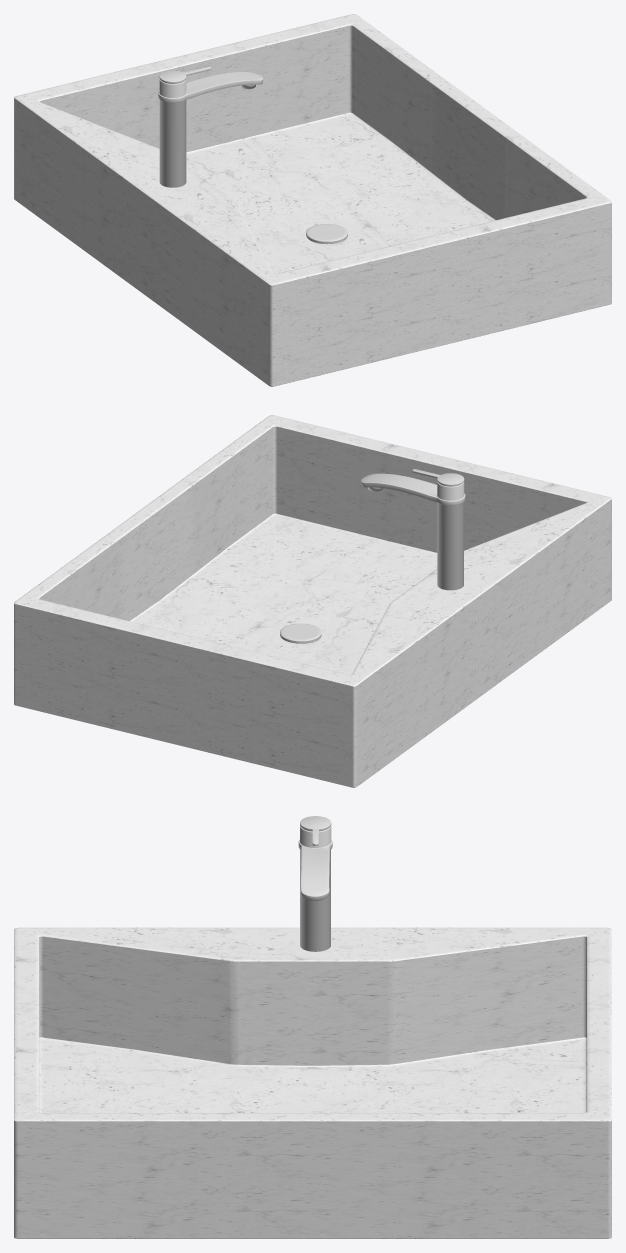
The model's file is Washbasin.glb.
3 renders of one model, top to bottom at view 1: azimuth 30°, elevation 25°; view 2: azimuth 150°, elevation 25°; view 3: azimuth 270°, elevation 25°, orthographic. The views are drawn at different scales.
Parts seen in each view (by area): view 1: Wash Basin.001, Wash Basin Tap.001, Wash Basin Hole.001; view 2: Wash Basin.001, Wash Basin Tap.001, Wash Basin Hole.001; view 3: Wash Basin.001, Wash Basin Tap.001.
Part boxes in pixels (left/top/right/bottom): Wash Basin.001: left=14, top=14, right=611, bottom=386; Wash Basin Tap.001: left=158, top=66, right=263, bottom=187; Wash Basin Hole.001: left=306, top=224, right=347, bottom=244; Wash Basin.001: left=14, top=415, right=611, bottom=787; Wash Basin Tap.001: left=361, top=469, right=465, bottom=590; Wash Basin Hole.001: left=280, top=623, right=321, bottom=643; Wash Basin.001: left=14, top=927, right=611, bottom=1238; Wash Basin Tap.001: left=298, top=816, right=332, bottom=951.
Bounding box in the file's own units: 0.5199 × 0.3028 × 0.6789.
3 materials, 1 textured.
